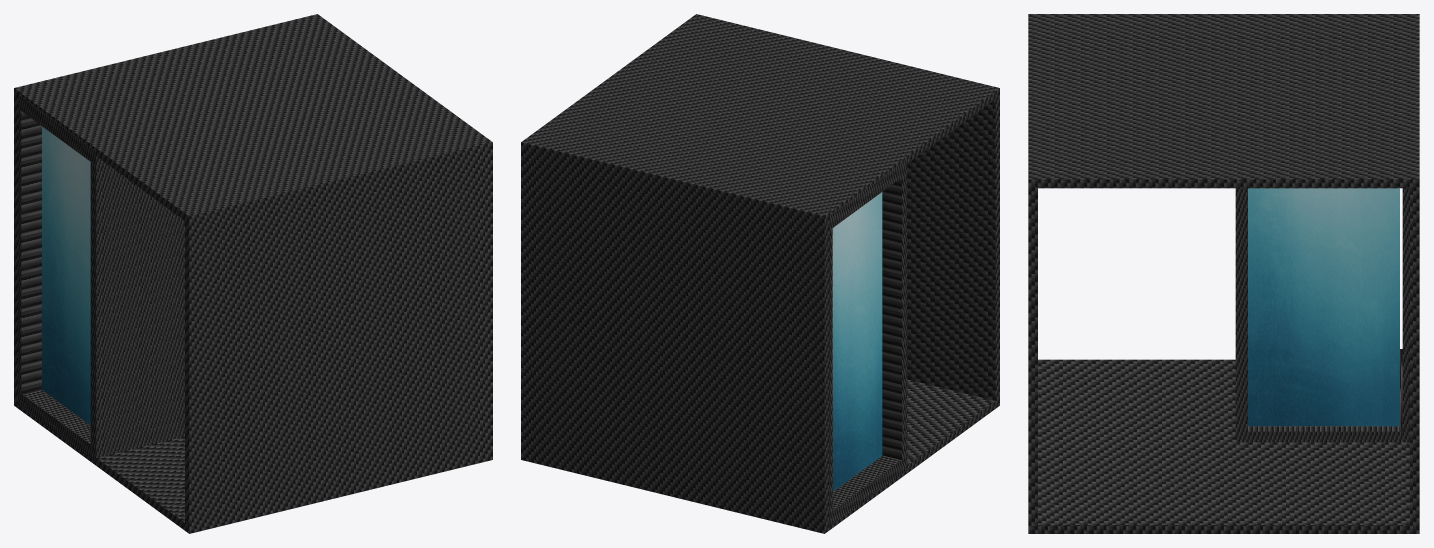
Rendered from cancel1pt1.fbx.
3 views of the same model, side by side, from view 1: azimuth 30°, elevation 25°; view 2: azimuth 150°, elevation 25°; view 3: azimuth 270°, elevation 25° (orthographic). The views are drawn at different scales.
Visible parts, largest first — view 1: Default; view 2: Default; view 3: Default.
Boxes of the visible parts, <box> form: Default: <box>14,14,492,533</box>; Default: <box>521,14,999,533</box>; Default: <box>1028,14,1419,533</box>.
Size of the model in its own units: 1 by 1 by 1.
2 materials, 2 textured.
